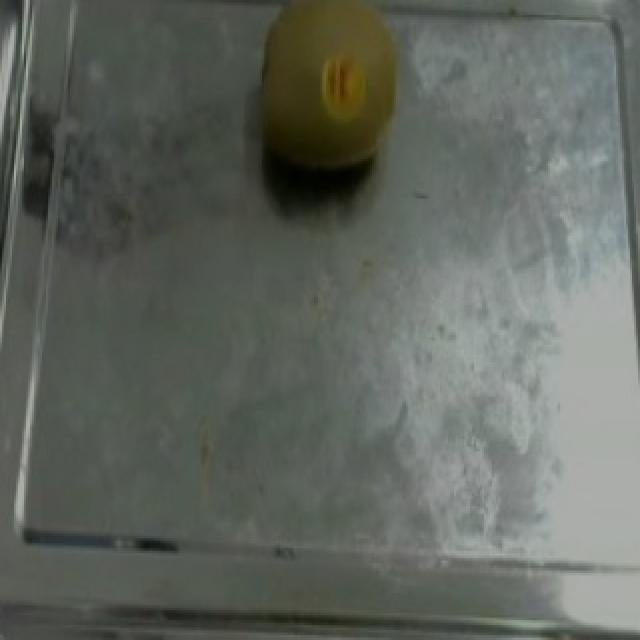Fruit: (238, 0, 414, 186)
